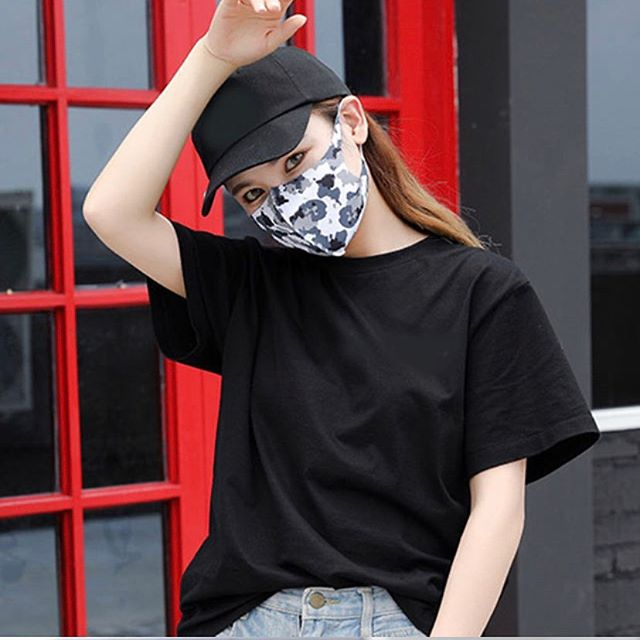homemade: (214, 129, 371, 260)
